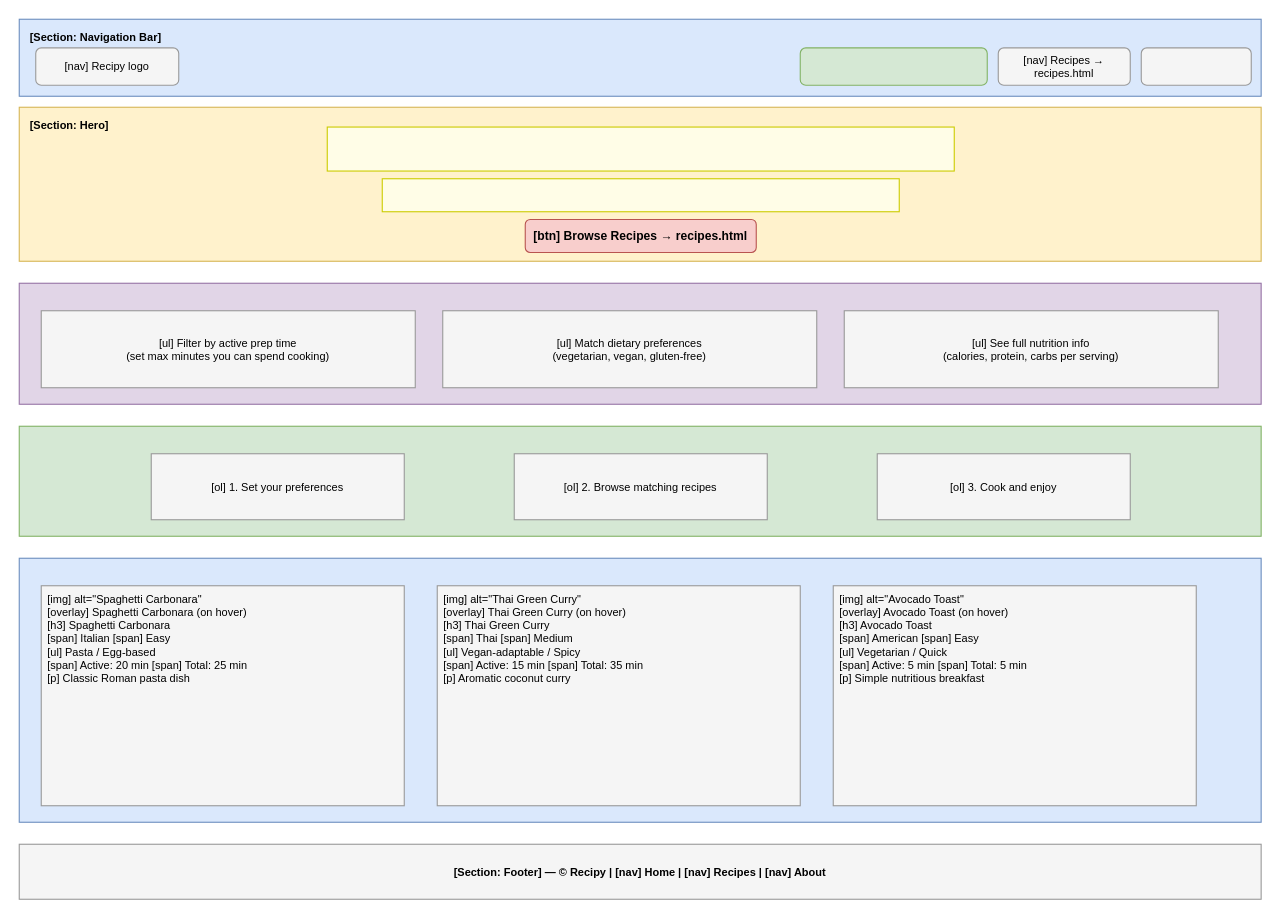
The diagram is 1280 pixels wide and 919 high, and some of its shapes have lost their labels. Each missing label, with the box of its shape:
[nav] About → about.html: (1140, 47, 1251, 85)
[nav] Home → index.html (ACTIVE): (799, 47, 987, 85)
[Section: Feature Highlights]: (18, 282, 1261, 404)
[Section: Featured Recipes]: (18, 557, 1261, 822)
[Section: How It Works]: (18, 425, 1261, 536)
[text placeholder: Headline] — Find Your Perfect Recipe, Fast: (326, 126, 954, 171)
[text placeholder: Subheadline] — For busy people who love to eat: (381, 178, 899, 212)
